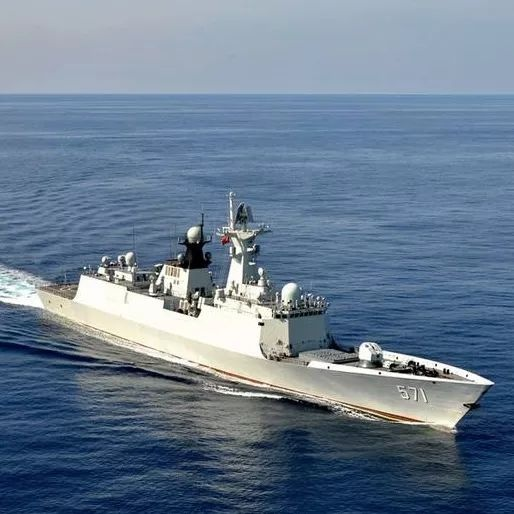warship: (30, 187, 494, 438)
